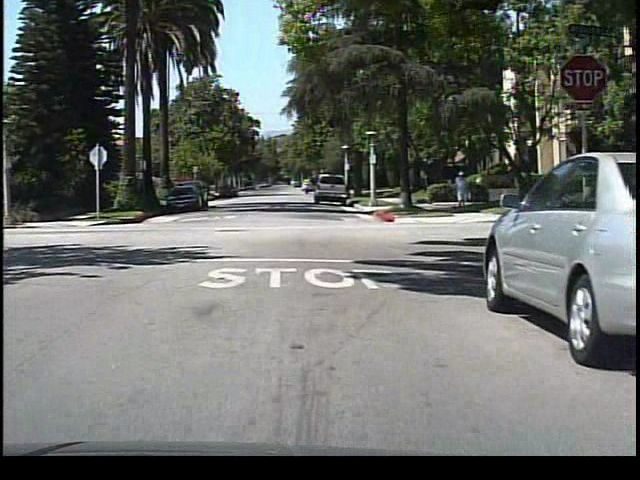person: (452, 168, 470, 215)
